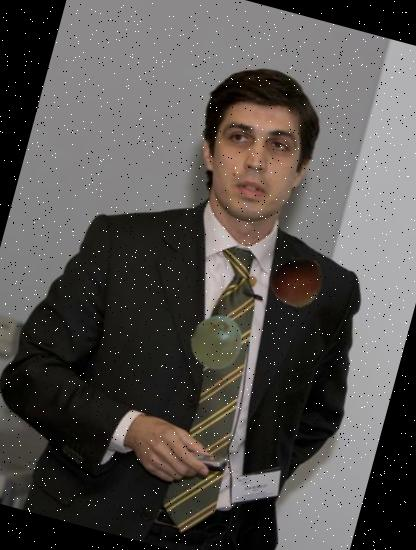Grape: (183, 308, 252, 377)
Nut: (266, 250, 332, 316)
